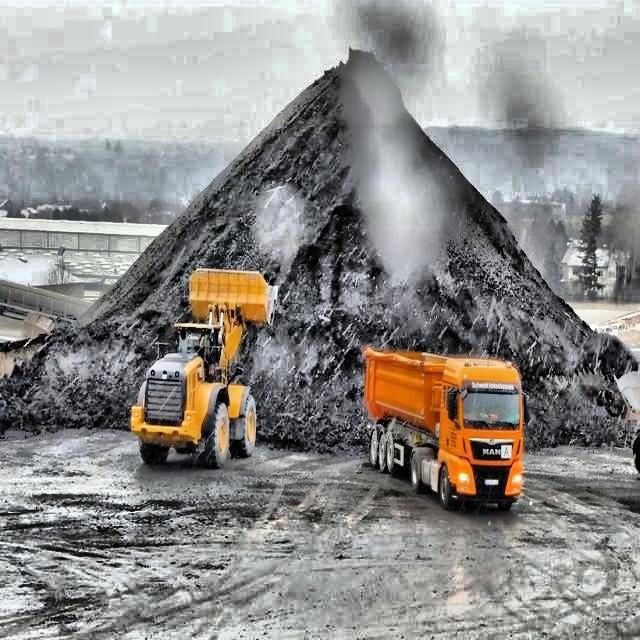bull_dozer/loader/grader: (129, 264, 279, 470)
dump_truck: (362, 342, 530, 516)
